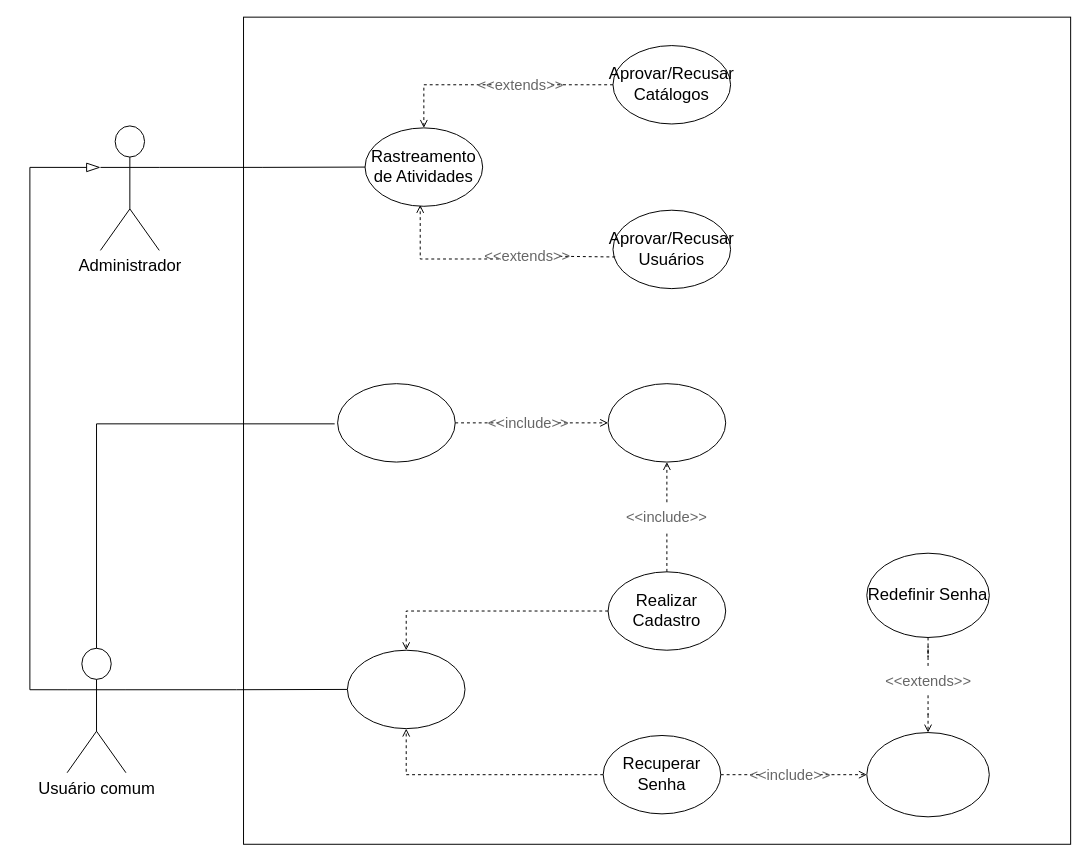
This 1088x861 diagram has some shape labels left out. Here are the shapes that lost their labels. From the top down, the centre of each, then its label:
At (x=396, y=422): "Gerenciar Catálogos".
At (x=666, y=422): "Registrar Atividade".
At (x=405, y=689): "Realizar Login".
At (x=927, y=774): "Enviar Email de Recuperação".
